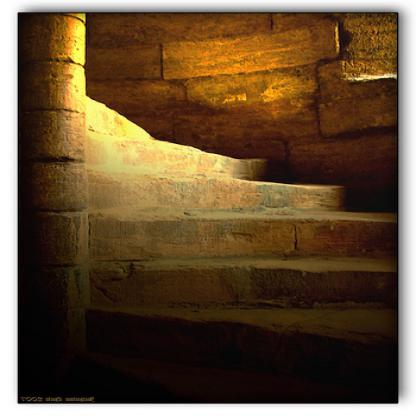stairs: (91, 207, 380, 399)
